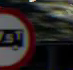Heavy Vehicles: (1, 3, 36, 65)
